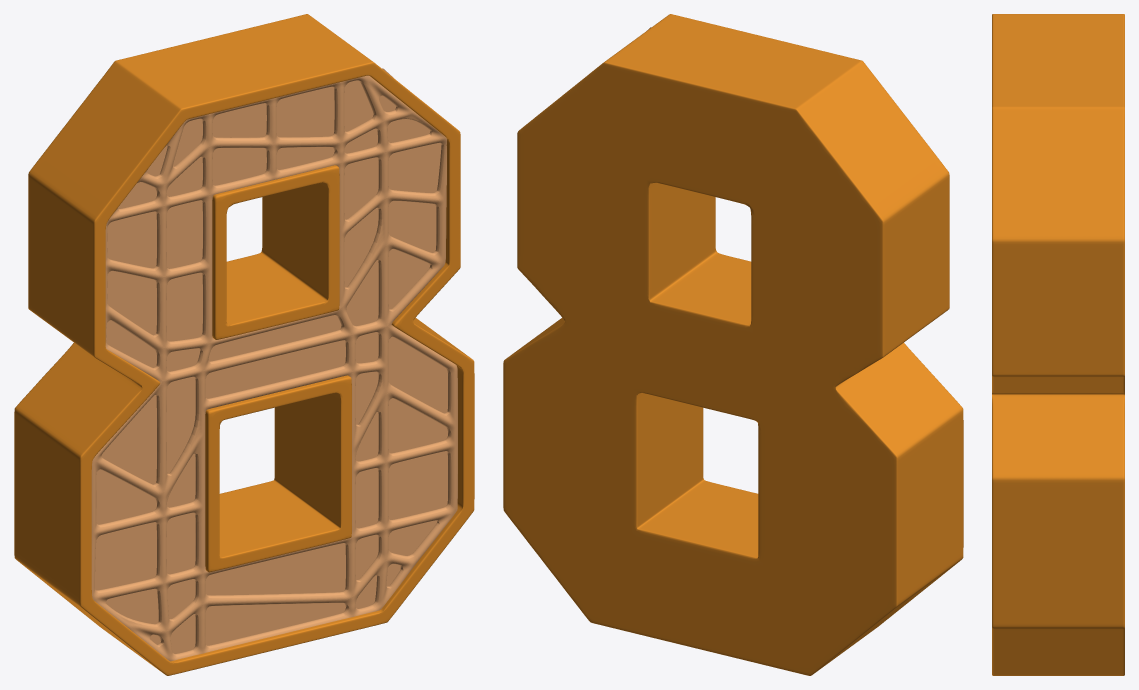
3 renders of one model, left to right at view 1: azimuth 30°, elevation 25°; view 2: azimuth 150°, elevation 25°; view 3: azimuth 270°, elevation 25°, orthographic.
Visible parts, largest first — view 1: Text.035, Plane.043, Plane.064; view 2: Text.035; view 3: Text.035.
Part boxes in pixels (x1,y1,x2,y2): Text.035: (14, 14, 474, 675); Plane.043: (95, 68, 447, 653); Plane.064: (91, 75, 457, 661); Text.035: (503, 14, 963, 675); Text.035: (992, 14, 1124, 675).
Size of the model in its own units: 2.71 by 3.7 by 0.7931.
